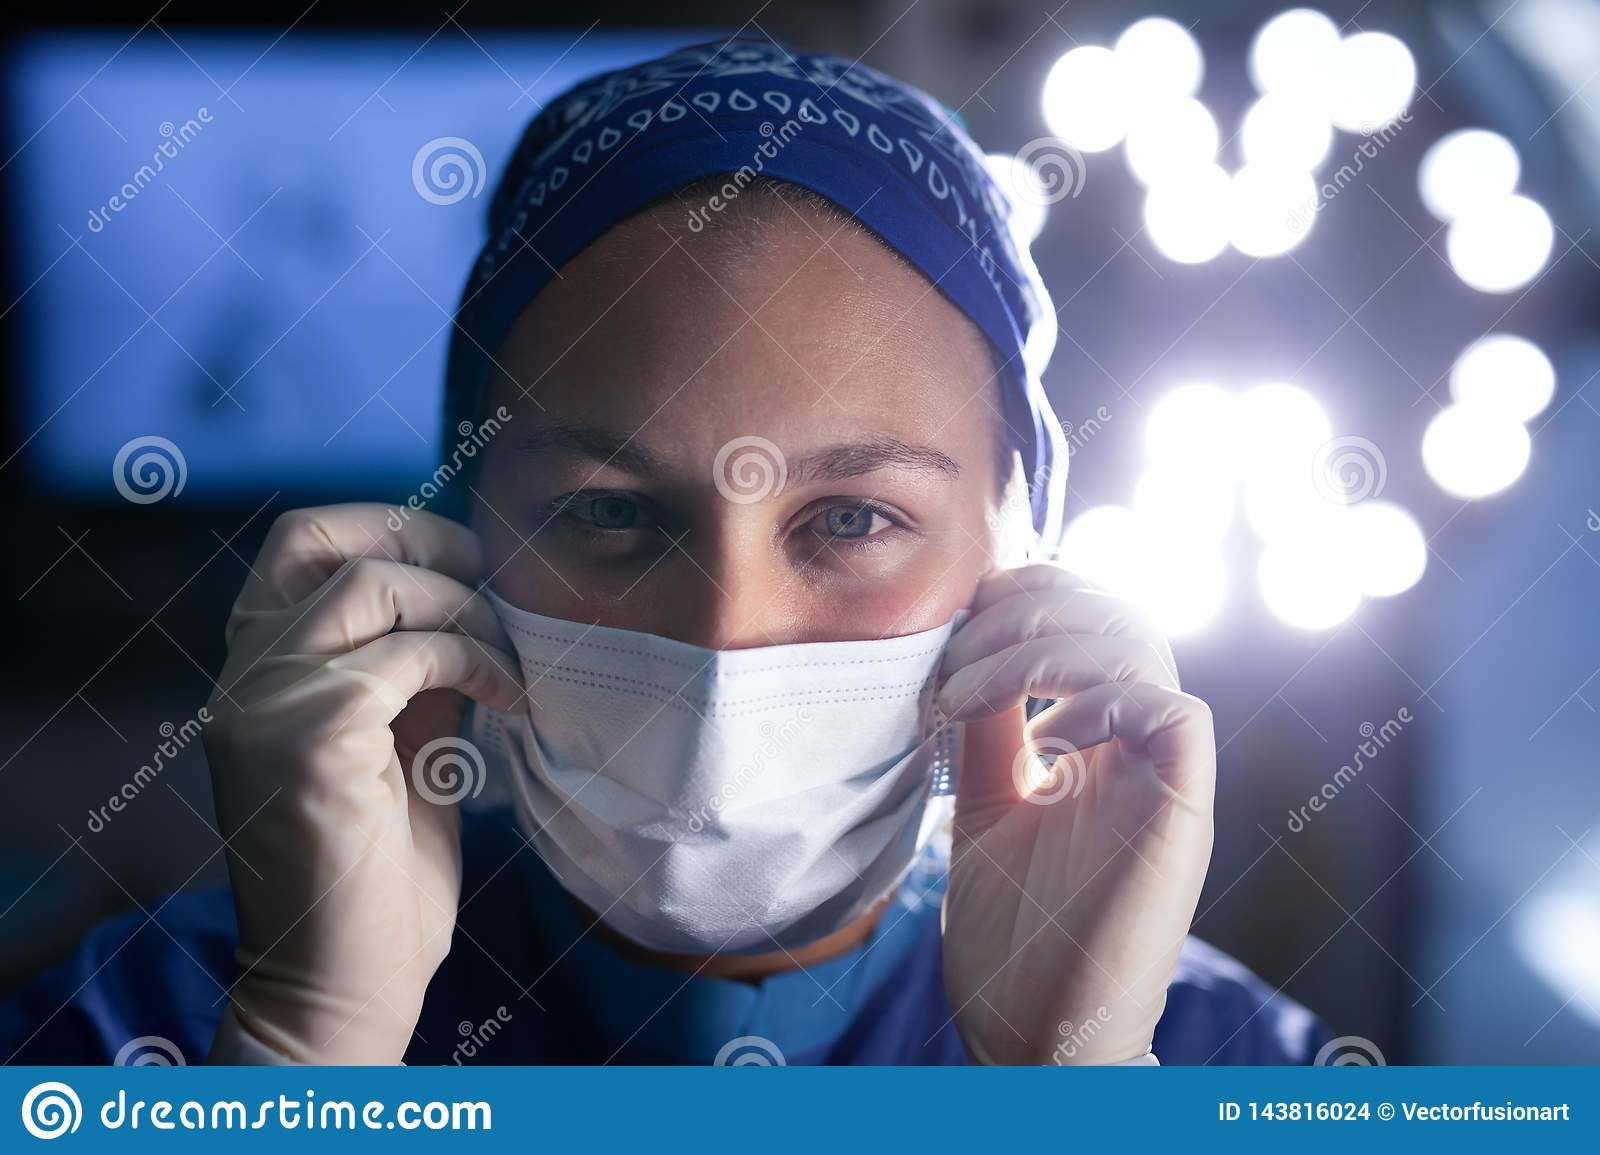mask: (491, 597, 978, 989)
